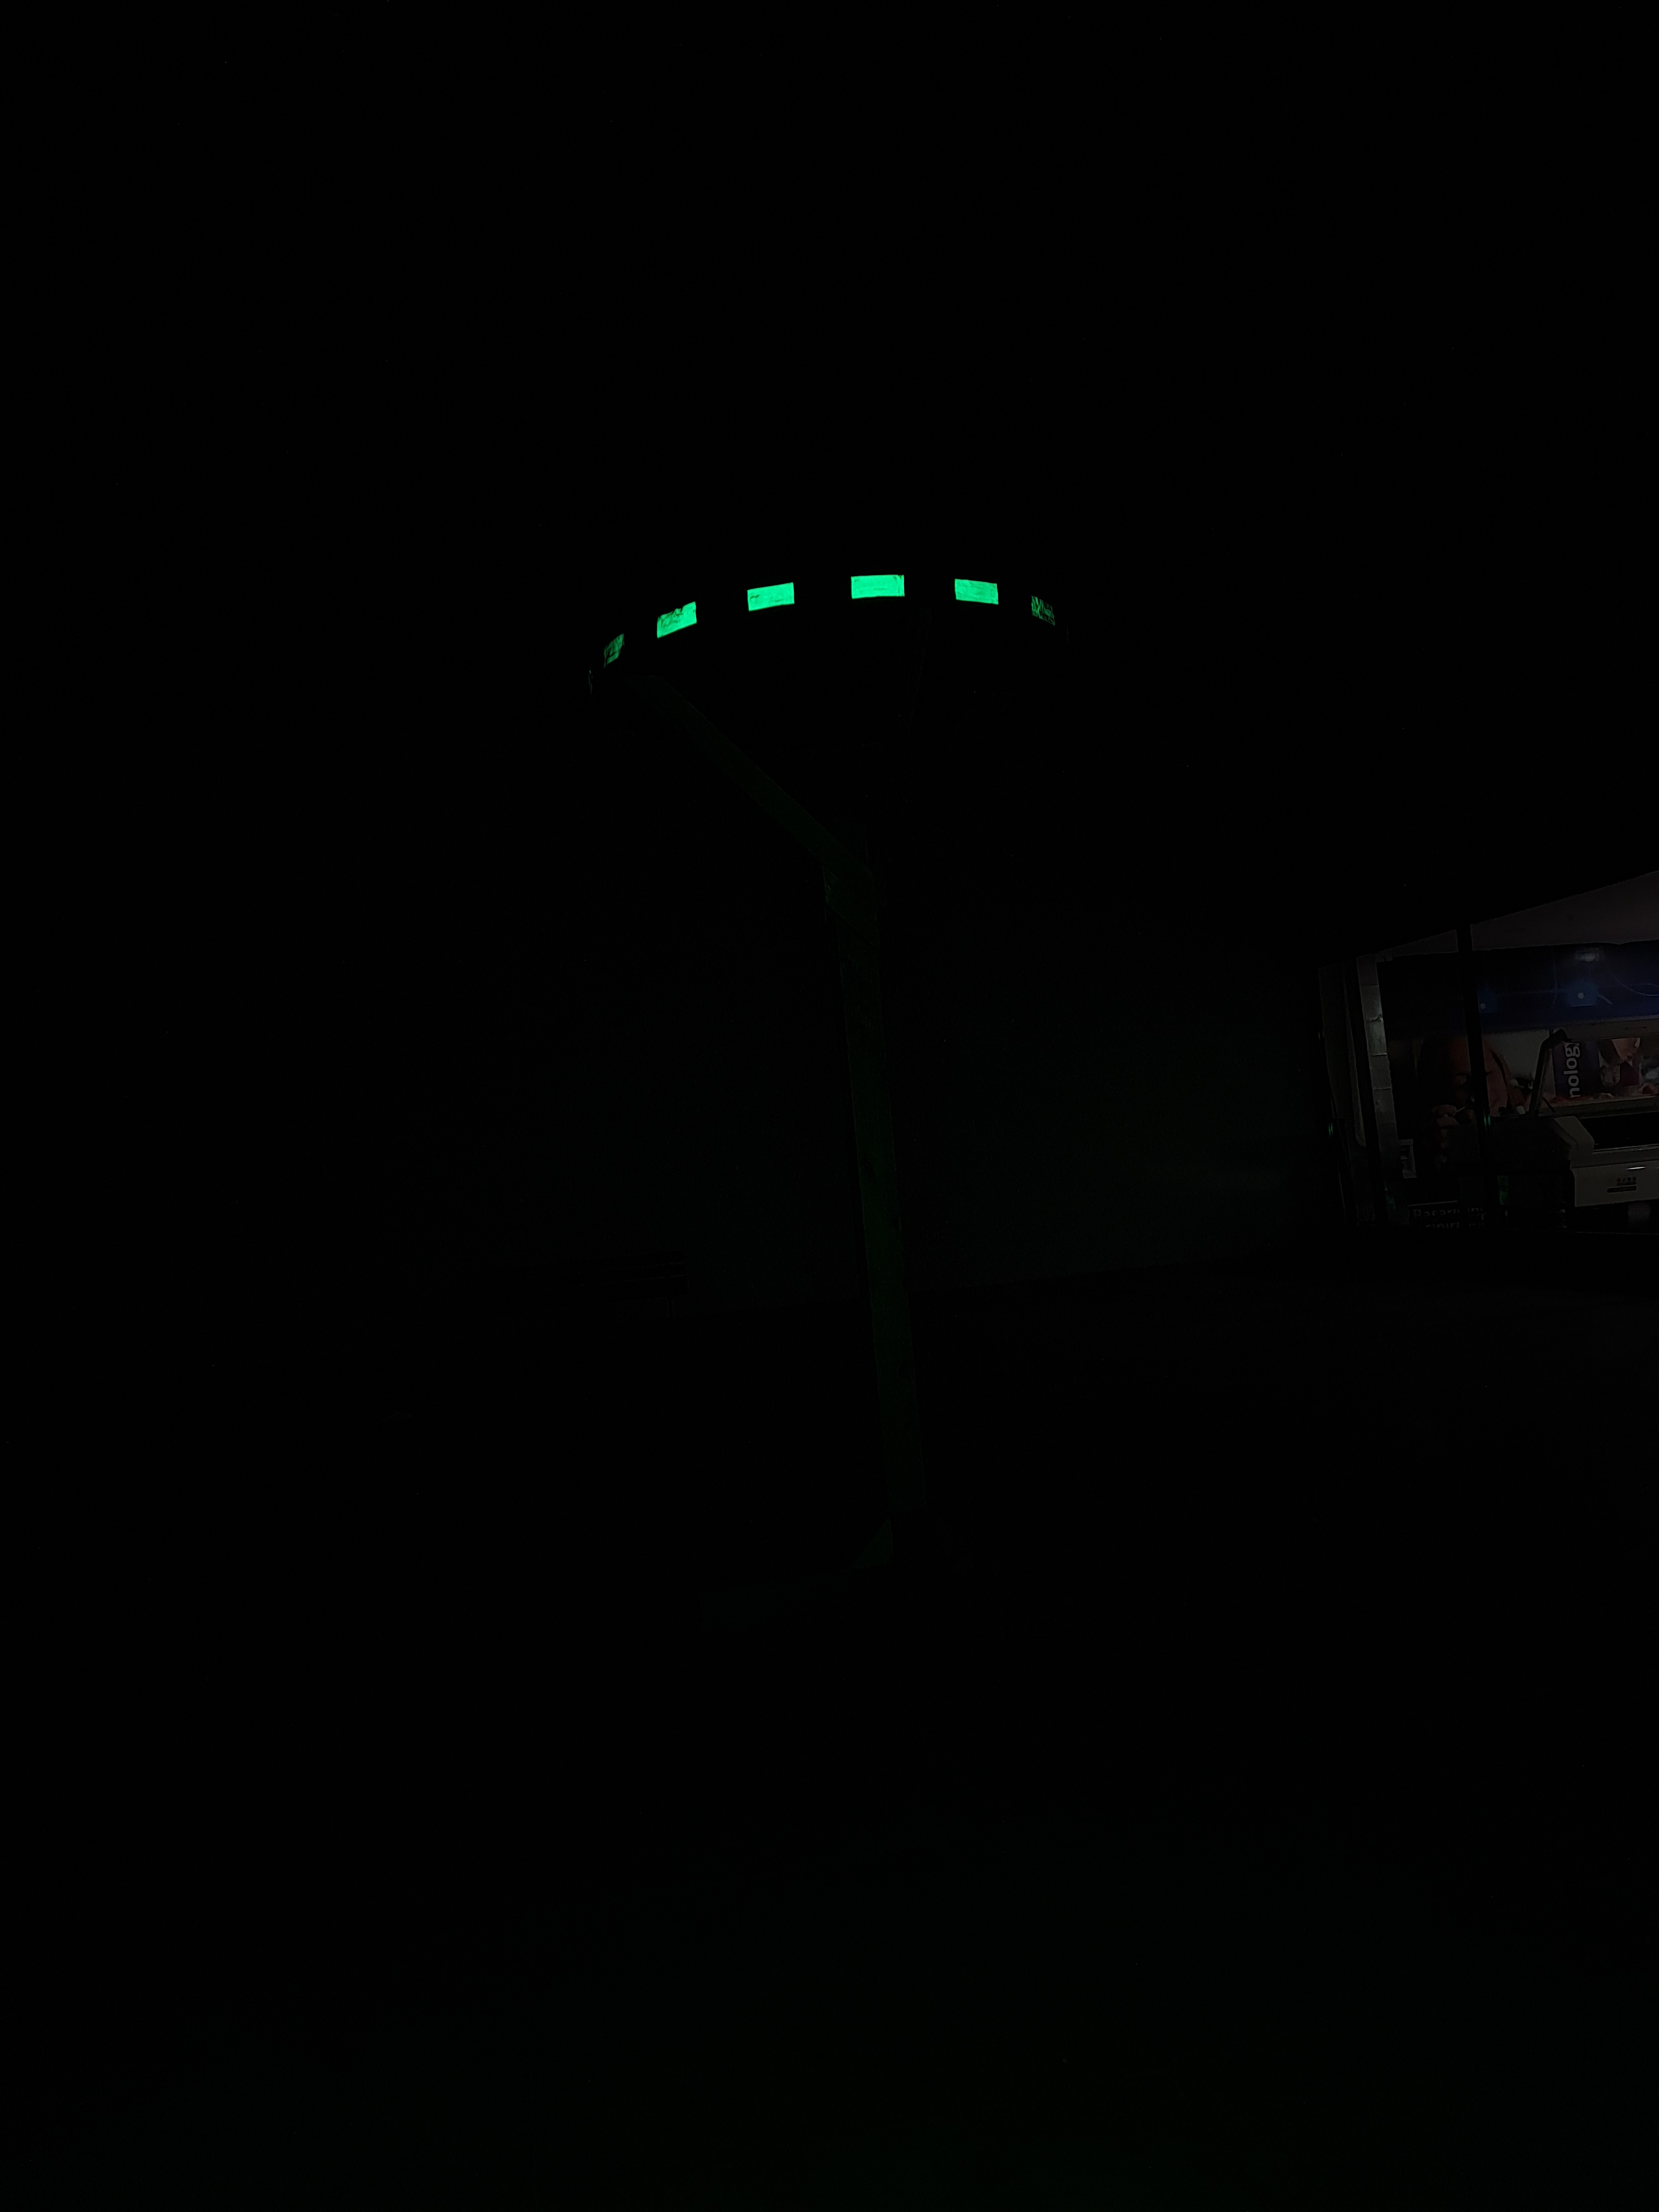hoop: (552, 557, 1129, 681)
